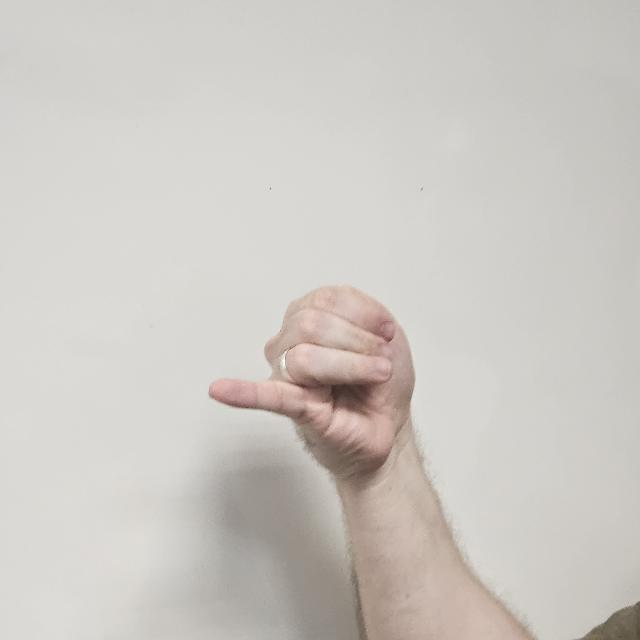Esquerda: (198, 271, 428, 489)
